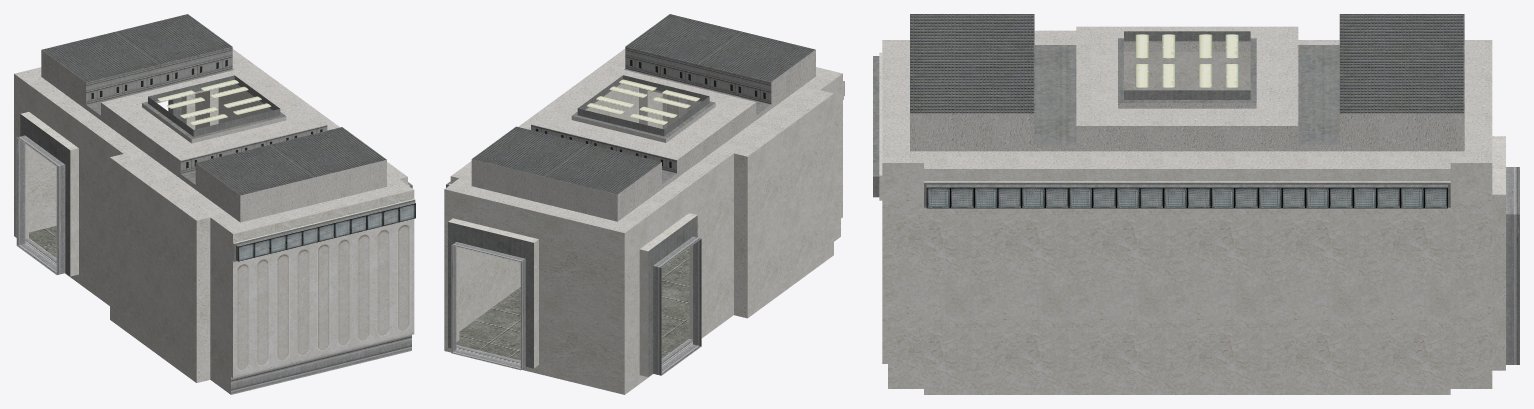
Rendered from ply_all_house_sm_s01_fp2_r3_room1_mesh.fbx.
3 renders of one model, left to right at view 1: azimuth 30°, elevation 25°; view 2: azimuth 150°, elevation 25°; view 3: azimuth 270°, elevation 25°, orthographic. The views are drawn at different scales.
Parts seen in each view (by area): view 1: mesh_node; view 2: mesh_node; view 3: mesh_node.
Part boxes in pixels (box(x1,y1,x2,y2)): mesh_node: box(14, 14, 415, 394); mesh_node: box(444, 14, 844, 394); mesh_node: box(873, 14, 1519, 394).
Size of the model in its own units: 6.17 by 5.31 by 11.67.
